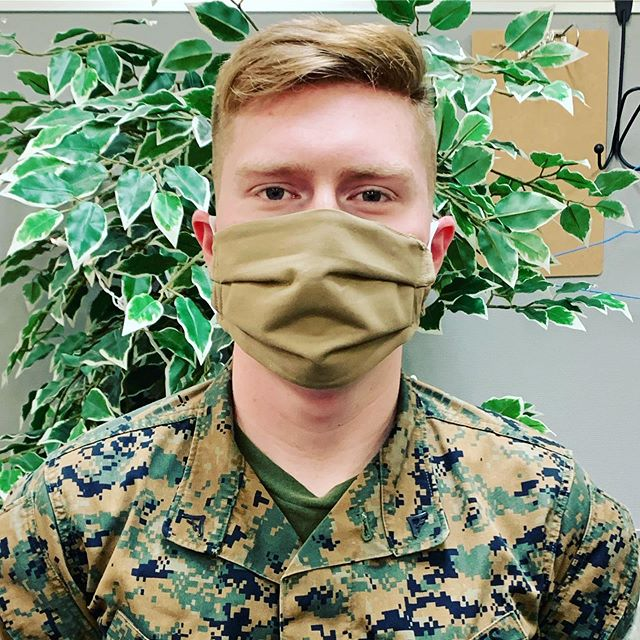homemade: (189, 215, 435, 379)
